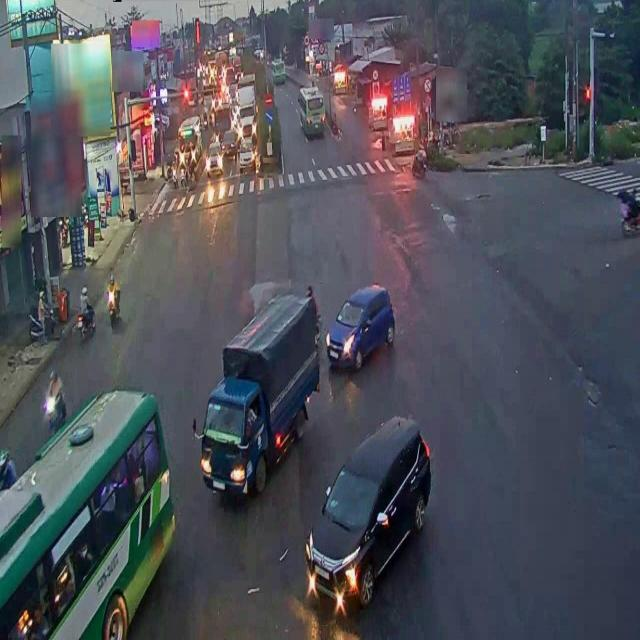bus: (0, 392, 175, 640)
car: (304, 411, 432, 616), (325, 283, 396, 370)
motorcycle: (45, 372, 67, 433), (107, 275, 123, 336), (76, 286, 94, 338)
truck: (194, 286, 316, 502)
